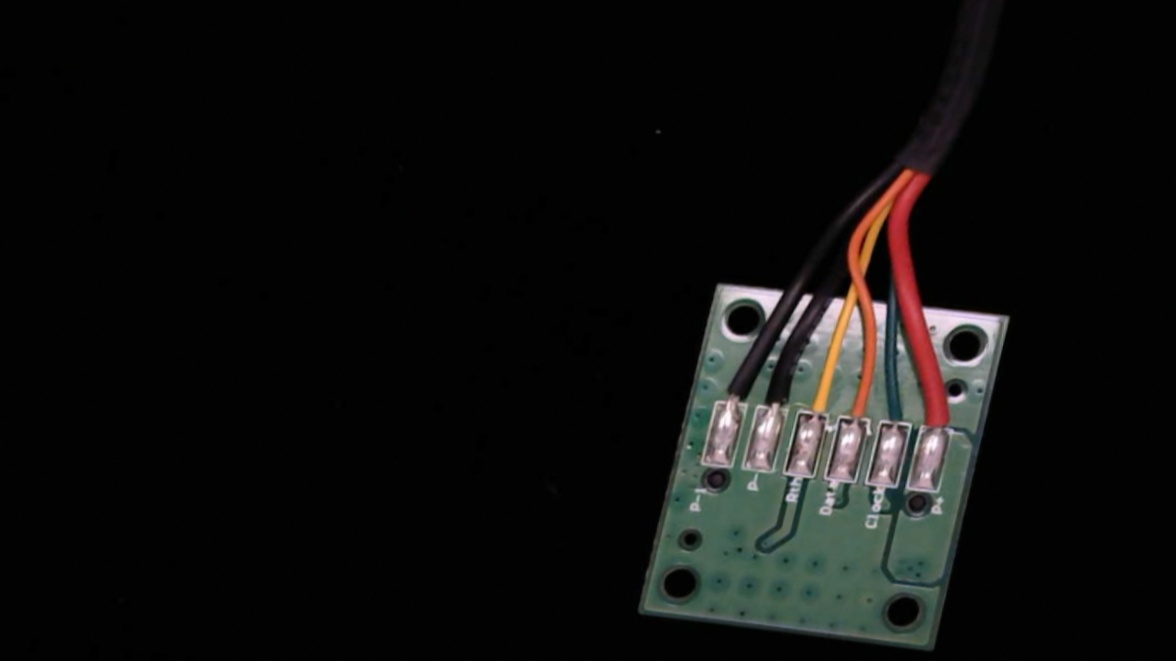Black: (748, 350, 807, 430)
Black1: (709, 360, 759, 424)
Green: (869, 376, 924, 442)
Orange: (834, 373, 883, 438)
Red: (912, 382, 963, 447)
Yellow: (791, 368, 843, 433)
